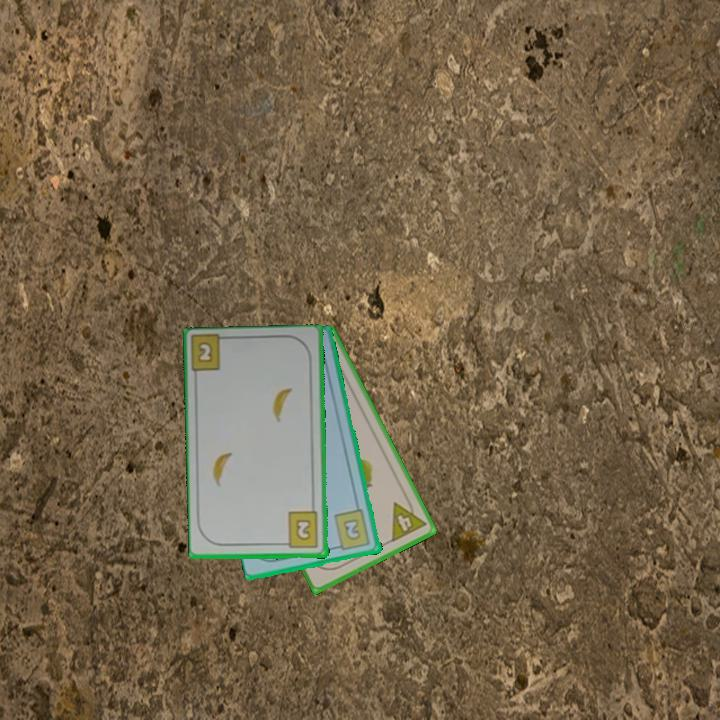2b: (331, 506, 373, 554), (279, 509, 321, 551), (194, 338, 216, 366)
4p: (388, 493, 429, 545)
